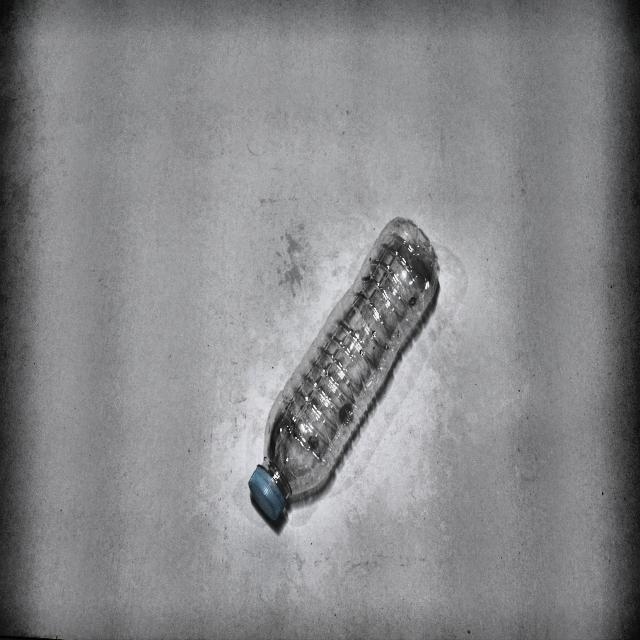Bottles: (245, 208, 447, 531)
